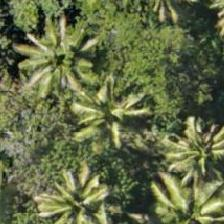coconut_tree: (12, 12, 102, 102), (80, 68, 170, 158), (162, 101, 223, 191), (43, 168, 133, 223), (149, 172, 223, 223)
